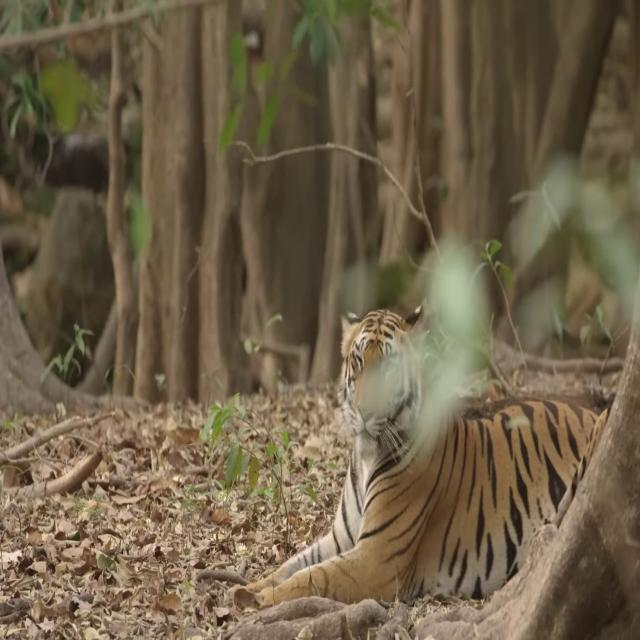tiger: (204, 301, 609, 600)
